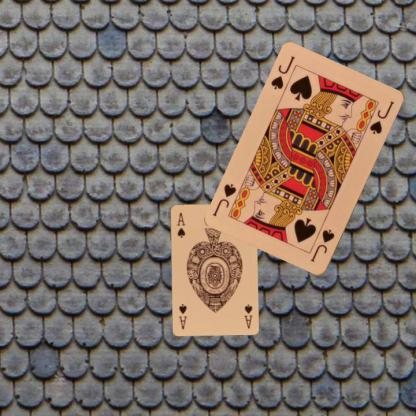As: (174, 209, 186, 238), (242, 302, 254, 329)
Js: (269, 53, 297, 91), (308, 227, 336, 264)
